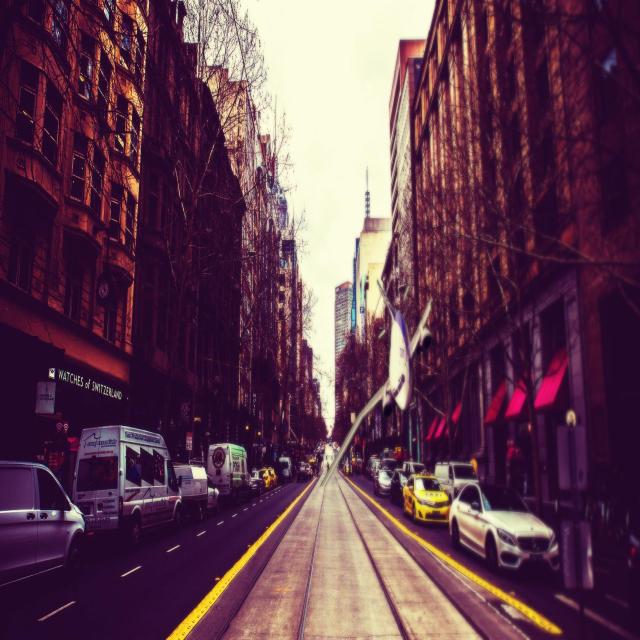airplane: (320, 278, 433, 486)
